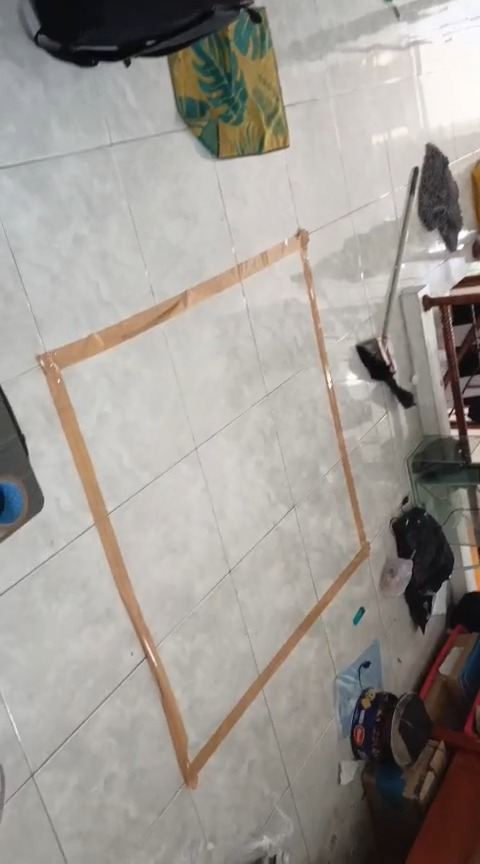floor marking: (38, 230, 369, 788)
